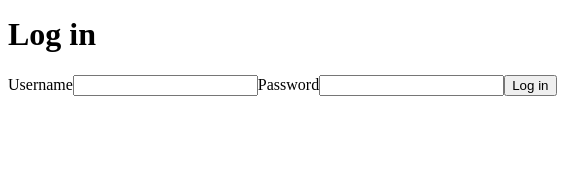
Test: login with correct credentials shows the library and logs no password
Type "alice" into the field labelled "Username" at (165, 85), box [73,75,258,96]
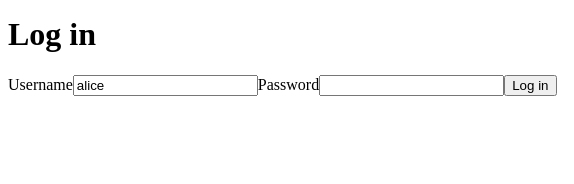
Type "secret-pw-123" into the password field labelled "Password" at (412, 85), box [319,75,504,96]
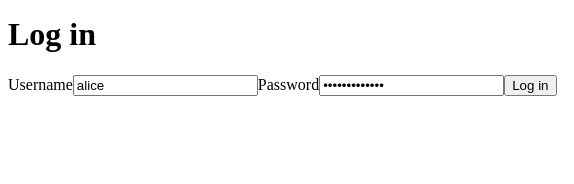
Click the button "Log in" at (530, 85), box [504,75,556,96]
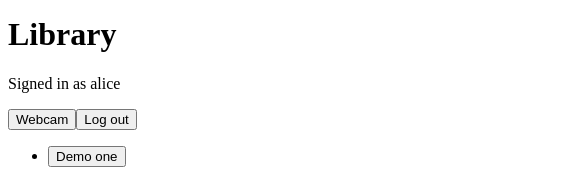
Expected: the button "Demo one" is shown, [48,146,126,167]
Expected: the heading "Library" is shown, [8,16,116,52]
